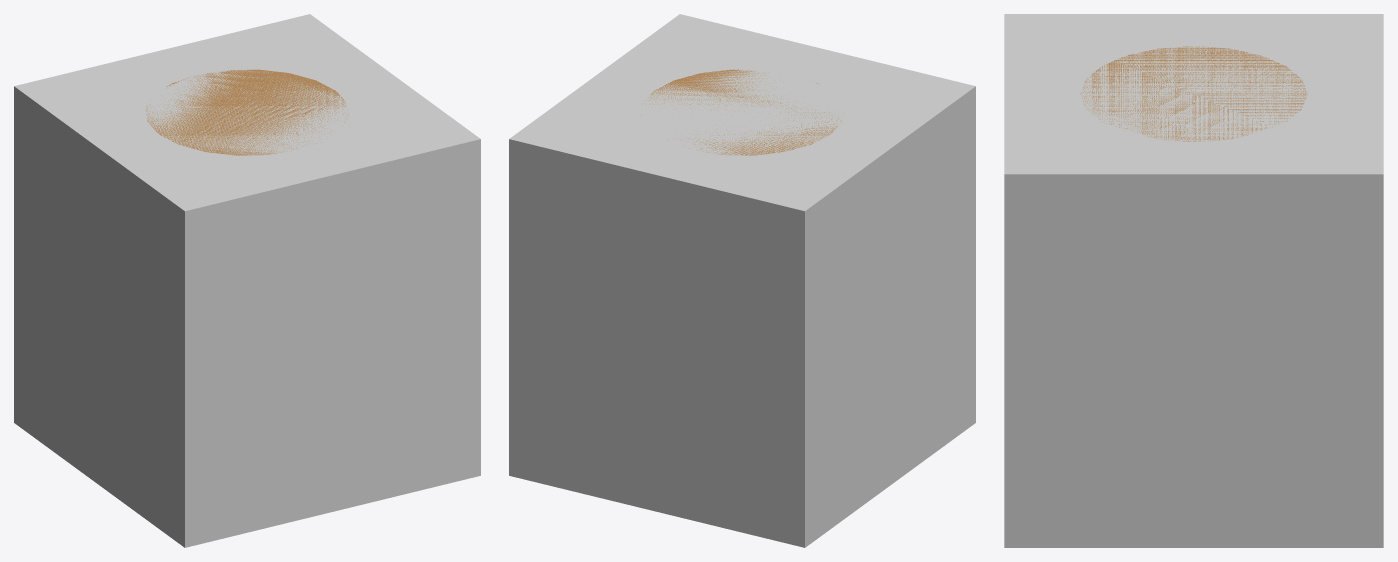
The model's file is chandelier_retail.glb.
3 views of the same model, side by side, from view 1: azimuth 30°, elevation 25°; view 2: azimuth 150°, elevation 25°; view 3: azimuth 270°, elevation 25° (orthographic). The views are drawn at different scales.
Parts seen in each view (by area): view 1: COL_chandelier, MESH_CeilingCanopy; view 2: COL_chandelier, MESH_CeilingCanopy; view 3: COL_chandelier, MESH_CeilingCanopy.
Boxes of the visible parts, x1,y1,x2,y2 form: COL_chandelier: (14, 14, 480, 547); MESH_CeilingCanopy: (146, 69, 348, 155); COL_chandelier: (509, 14, 975, 547); MESH_CeilingCanopy: (641, 69, 841, 155); COL_chandelier: (1004, 14, 1383, 547); MESH_CeilingCanopy: (1080, 46, 1307, 141).
Size of the model in its own units: 1.15 by 1.25 by 1.15.
